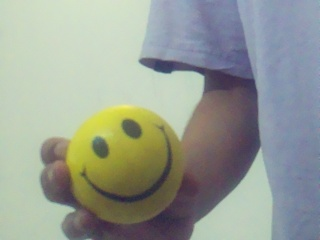ball: (66, 105, 183, 224)
